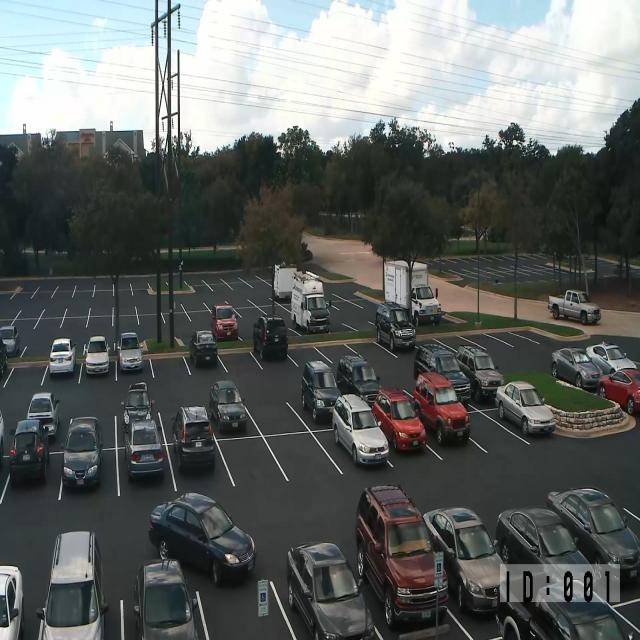car: (355, 484, 449, 628), (148, 491, 256, 587), (496, 570, 639, 640), (494, 506, 594, 603), (422, 506, 506, 616), (546, 486, 640, 584), (286, 541, 375, 639), (36, 530, 109, 639), (133, 558, 199, 640), (413, 371, 471, 446), (332, 393, 389, 466), (529, 599, 627, 640), (413, 344, 471, 408), (372, 388, 426, 452), (495, 381, 556, 436), (60, 415, 103, 489), (172, 405, 215, 472), (456, 344, 504, 403), (301, 360, 342, 423), (9, 418, 49, 482), (336, 353, 382, 408), (124, 418, 164, 480), (550, 346, 603, 391), (375, 301, 416, 351), (597, 368, 640, 415), (209, 379, 247, 432), (548, 289, 602, 324), (0, 564, 24, 639), (586, 340, 637, 374), (121, 381, 154, 433), (252, 314, 288, 361), (26, 392, 60, 439), (413, 341, 456, 378), (411, 284, 441, 327), (116, 332, 143, 372), (83, 335, 110, 375), (189, 329, 217, 367), (49, 337, 76, 375), (211, 303, 238, 341), (0, 324, 20, 356), (0, 336, 7, 377), (0, 409, 4, 467)
